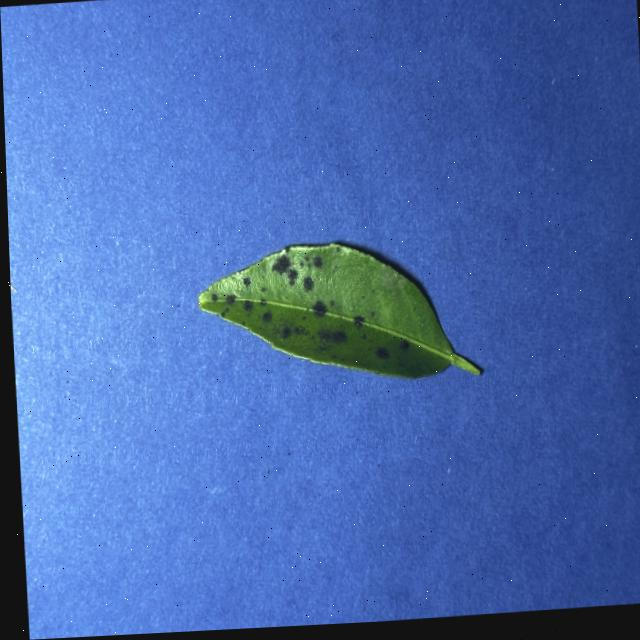sooty_mold: (199, 243, 479, 377)
